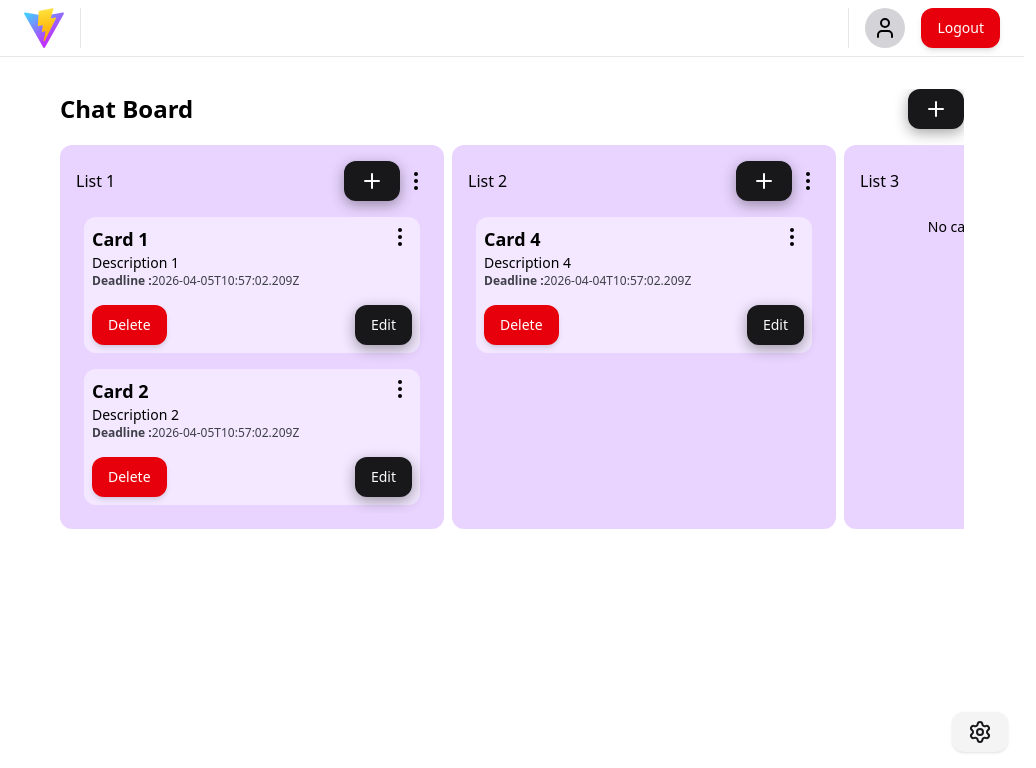
Scenario: Move the card › Should move the card to the next order as directed - right
The image size is (1036, 768).
expect the heading "Chat Board" is shown: met, box [60, 93, 193, 125]
expect the element named "Board Content" shows "List 1": met, box [76, 170, 115, 192]
Step 1. Click the button named "options" in the row of "Card 1" → (400, 237), box [388, 225, 412, 249]
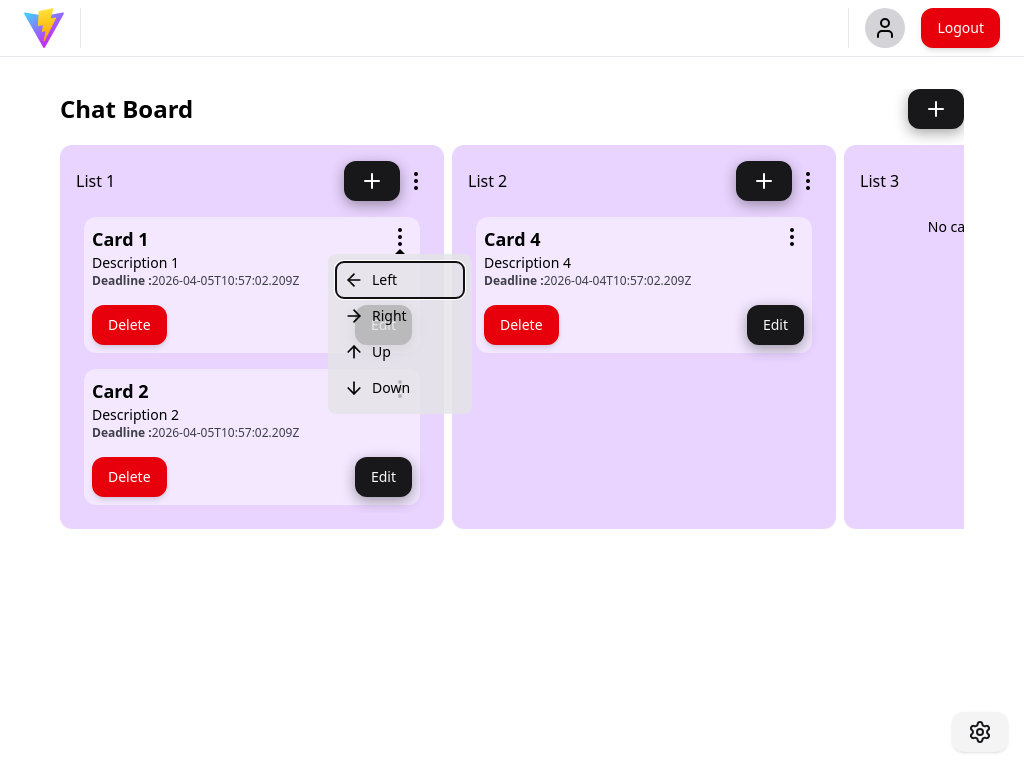
Step 2. Click the button "Right" → (400, 316), box [336, 298, 464, 334]
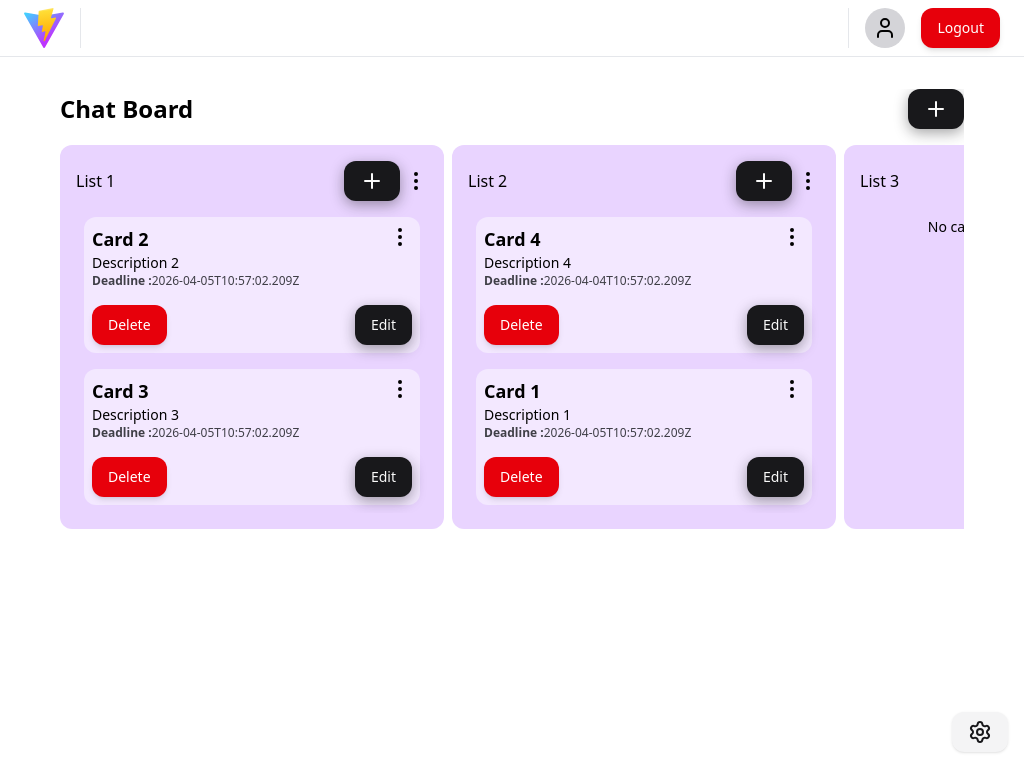
expect the heading "Card 1" is shown: met, box [484, 379, 540, 403]
expect the number of elements named "task-content" is 2: met, box [476, 217, 812, 353]; [476, 369, 812, 505]
